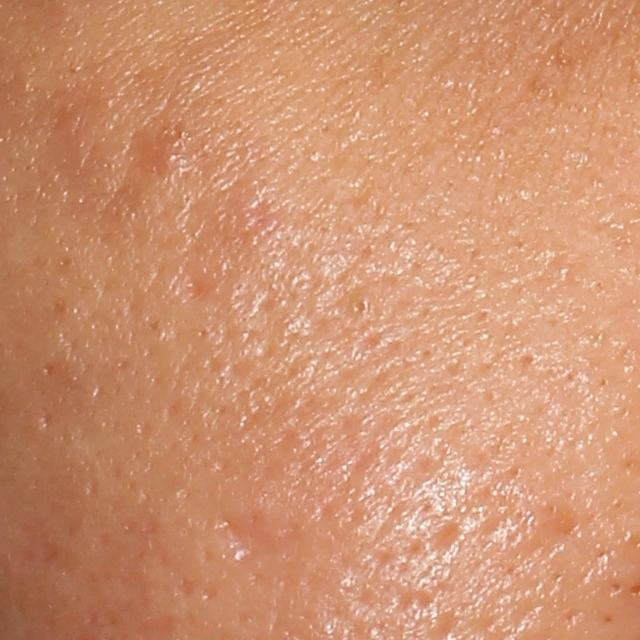atrophic_scar: (217, 505, 298, 564), (173, 248, 224, 305), (425, 519, 462, 559), (38, 407, 55, 429)
comedo: (347, 293, 374, 320)
